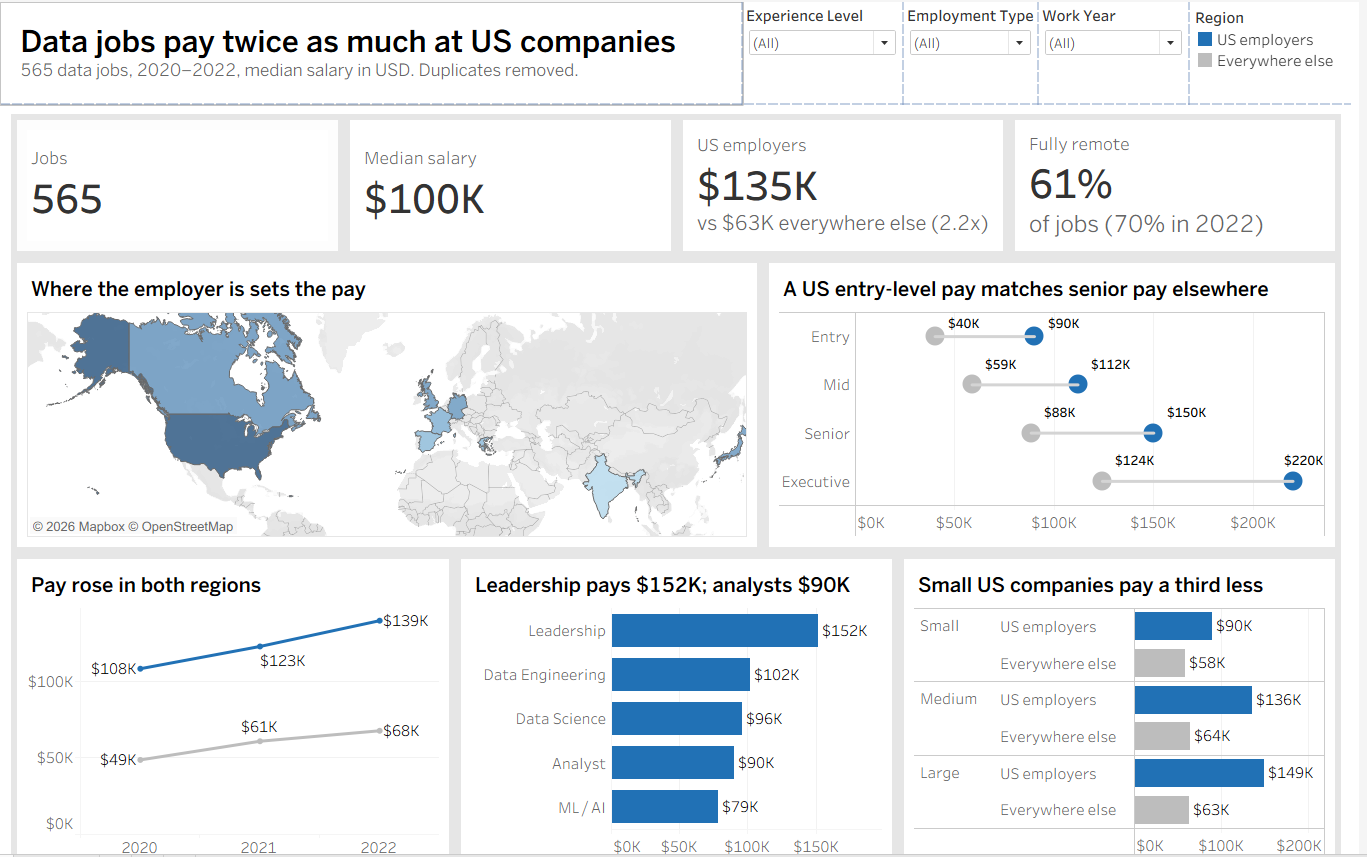

The dashboard page shown, as its layout file describes it:
{"tool":"tableau","page":{"name":"Data Salaries","canvas":[1366,900],"ordinal":0},"visuals":[{"type":"text","box":[8,8,741,103]},{"type":"filter","title":"Experience Ladder","param":"[federated.1lyoldu0xduvsq15lufag0y8o2nl].[none:experience_level:nk]","box":[749,8,161,103]},{"type":"filter","title":"Pay by role","param":"[federated.1lyoldu0xduvsq15lufag0y8o2nl].[none:employment_type:nk]","box":[910,8,135,103]},{"type":"filter","title":"Pay by role","param":"[federated.1lyoldu0xduvsq15lufag0y8o2nl].[none:work_year:ok]","box":[1045,8,151,103]},{"type":"legend","title":"Experience Ladder","param":"[federated.1lyoldu0xduvsq15lufag0y8o2nl].[none:Calculation_1396438445453314:nk]","box":[1200,12,154,68]},{"type":"worksheet","title":"KPI Jobs","mark":"Automatic","box":[18,121,333,143]},{"type":"worksheet","title":"KPI Median","mark":"Automatic","box":[351,121,333,143]},{"type":"worksheet","title":"KPI US","mark":"Automatic","box":[684,121,332,143]},{"type":"worksheet","title":"KPI Remote","mark":"Automatic","box":[1016,121,332,143]},{"type":"worksheet","title":"Pay Map","mark":"Multipolygon","box":[18,264,752,296]},{"type":"worksheet","title":"Experience Ladder","mark":"Automatic","rows":["experience_level"],"cols":["Calculation_1396438445379585","Calculation_1396438445379585"],"box":[770,264,578,296]},{"type":"worksheet","title":"Pay by Year","mark":"Line","rows":["Calculation_1396438445379585"],"cols":["work_year"],"box":[18,560,444,322]},{"type":"worksheet","title":"Pay by role","mark":"Automatic","rows":["Calculation_1396438445629444"],"cols":["Calculation_1396438445379585"],"box":[462,560,443,322]},{"type":"worksheet","title":"Pay by Size","mark":"Automatic","rows":["company_size","Calculation_1396438445453314"],"cols":["Calculation_1396438445379585"],"box":[905,560,443,322]}]}

Visuals, with their boxes on the page's 1366x900 design canvas (x1, y1, x2, y2). These are canvas units, not pixel positions in the 1367x857 screenshot, which may show the page scaled, cropped or inside an application window:
text: 8,8,749,111
"Experience Ladder" filter: 749,8,910,111
"Pay by role" filter: 910,8,1045,111
"Pay by role" filter: 1045,8,1196,111
"Experience Ladder" legend: 1200,12,1354,80
"KPI Jobs" worksheet: 18,121,351,264
"KPI Median" worksheet: 351,121,684,264
"KPI US" worksheet: 684,121,1016,264
"KPI Remote" worksheet: 1016,121,1348,264
"Pay Map" worksheet (Multipolygon marks): 18,264,770,560
"Experience Ladder" worksheet: 770,264,1348,560
"Pay by Year" worksheet (Line marks): 18,560,462,882
"Pay by role" worksheet: 462,560,905,882
"Pay by Size" worksheet: 905,560,1348,882
